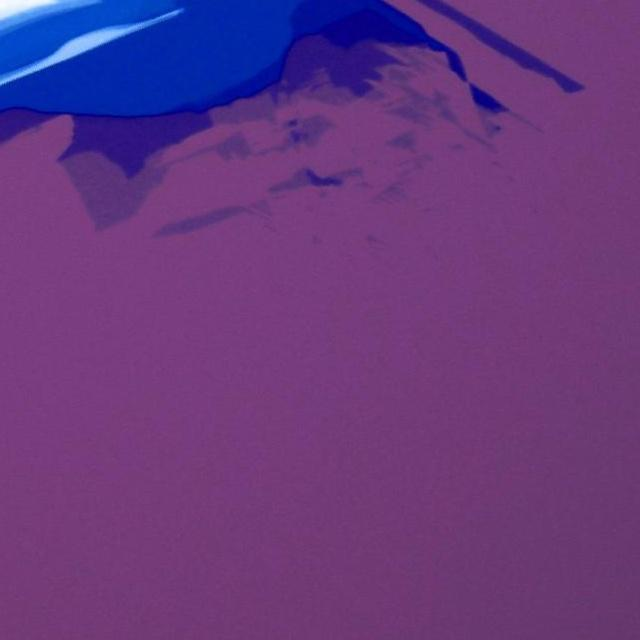monolayer-eWW4: (62, 147, 176, 236), (207, 90, 299, 128), (154, 205, 249, 235), (304, 74, 358, 105), (212, 132, 252, 162), (264, 171, 312, 191), (301, 116, 327, 146)
